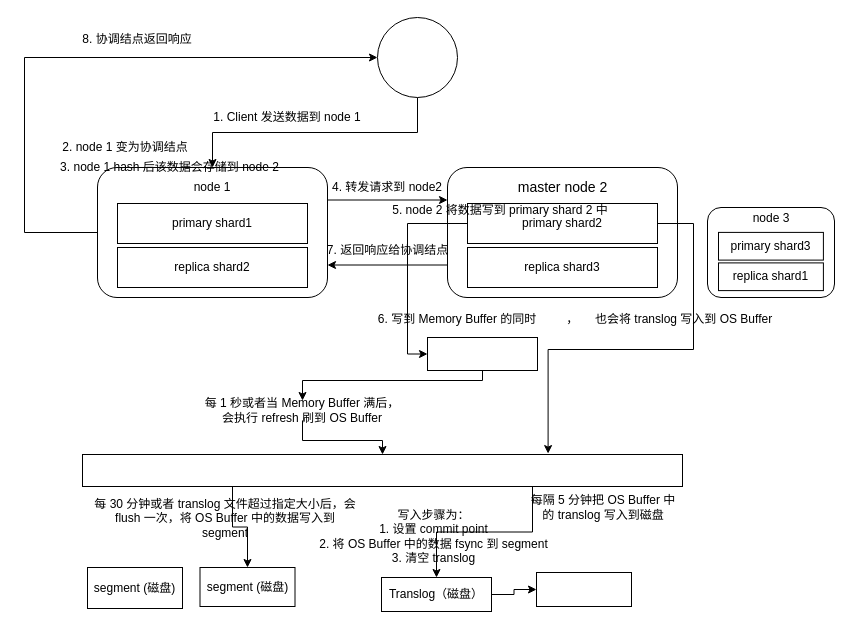
Some shapes in this 852 by 629 pixel diagram are drawn without their labels. Here are the shapes that lost their labels. From the top down, the centre of each, then its label:
the point at 417,57: Client
the point at 482,353: Memory Buffer
the point at 382,470: OS Buffer
the point at 584,589: Commit point
